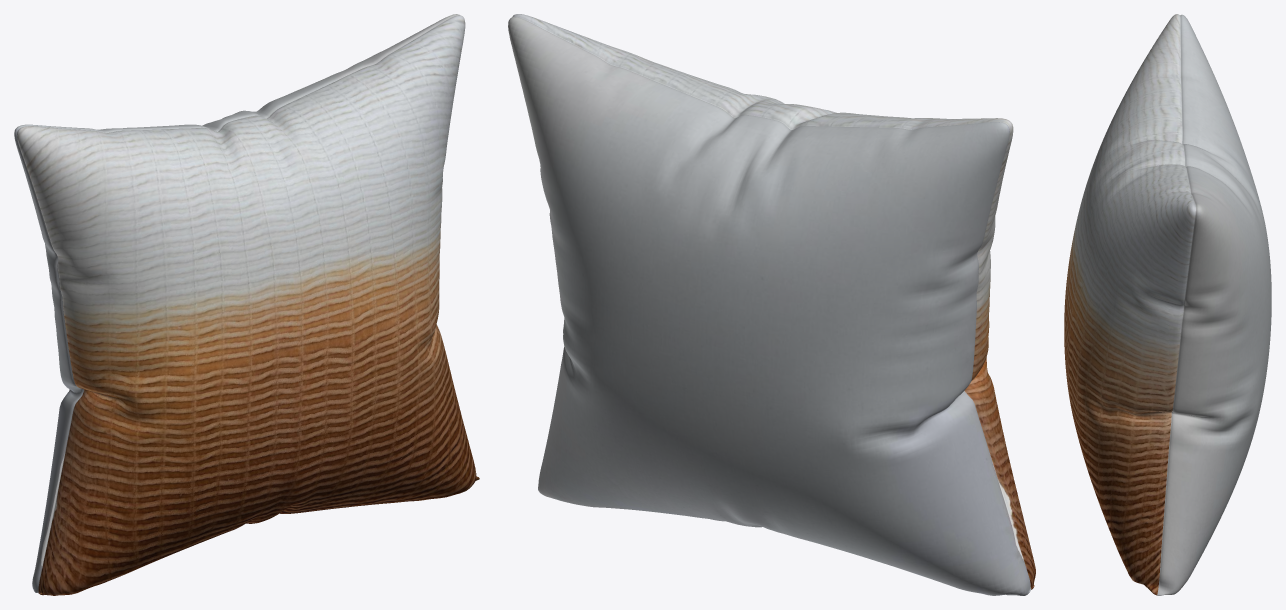
The model's file is Pillow_75.glb.
The picture shows the model from 3 angles, left to right: view 1: azimuth 30°, elevation 25°; view 2: azimuth 150°, elevation 25°; view 3: azimuth 270°, elevation 25°; orthographic projection. The views are drawn at different scales.
Parts seen in each view (by area): view 1: Pillow_Front, Pillow_Back; view 2: Pillow_Back, Pillow_Front; view 3: Pillow_Front, Pillow_Back.
Part boxes in pixels (x1,y1,x2,y2): Pillow_Front: (17,15,479,595); Pillow_Back: (14,14,459,593); Pillow_Back: (508,17,1031,595); Pillow_Front: (512,14,1035,589); Pillow_Front: (1064,14,1195,595); Pillow_Back: (1157,14,1271,595).
Bounding box in the file's own units: 0.4663 × 0.4454 × 0.211.
Materials: 2 (2 with a texture image).
